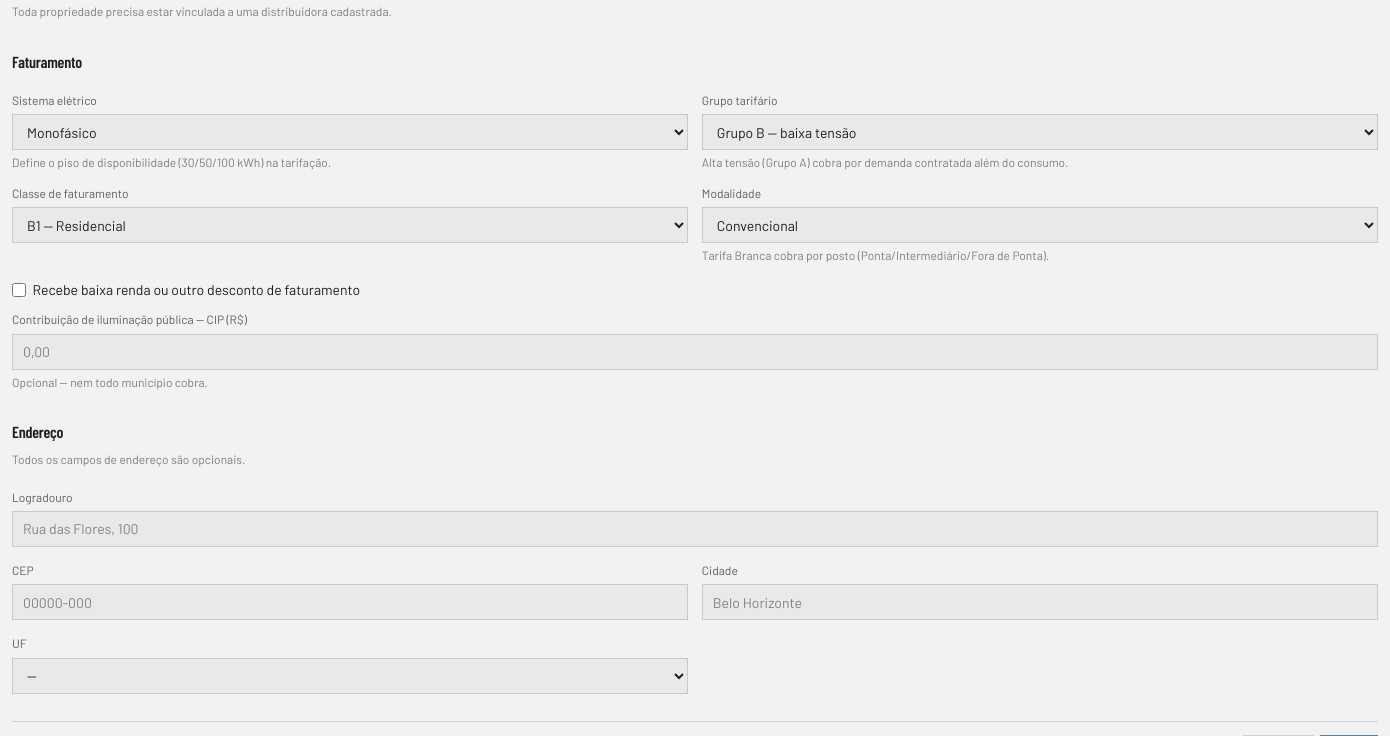
PropertyForm — validação › rejeita CEP em formato inválido
(page scrolled)
Type "123" into the field labelled "CEP" at (350,602), box [12, 584, 688, 620]
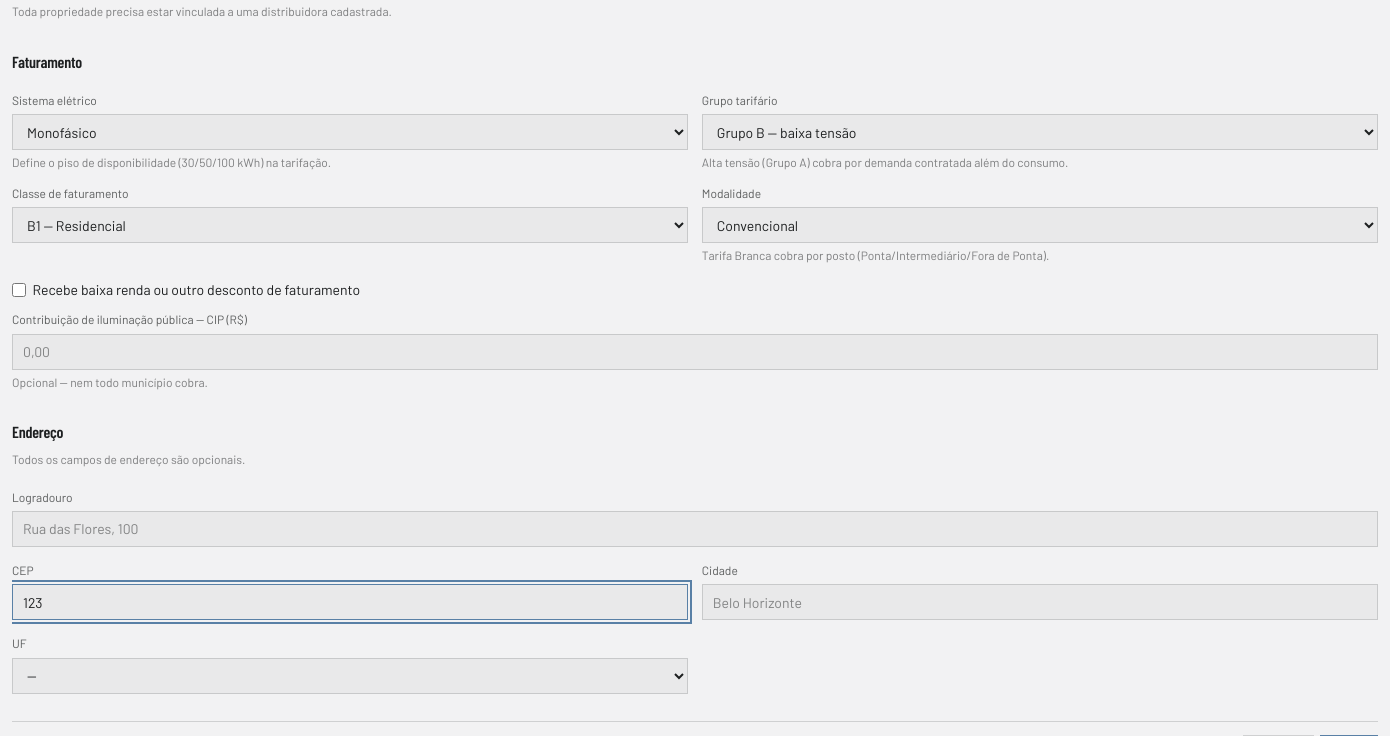
Press Tab
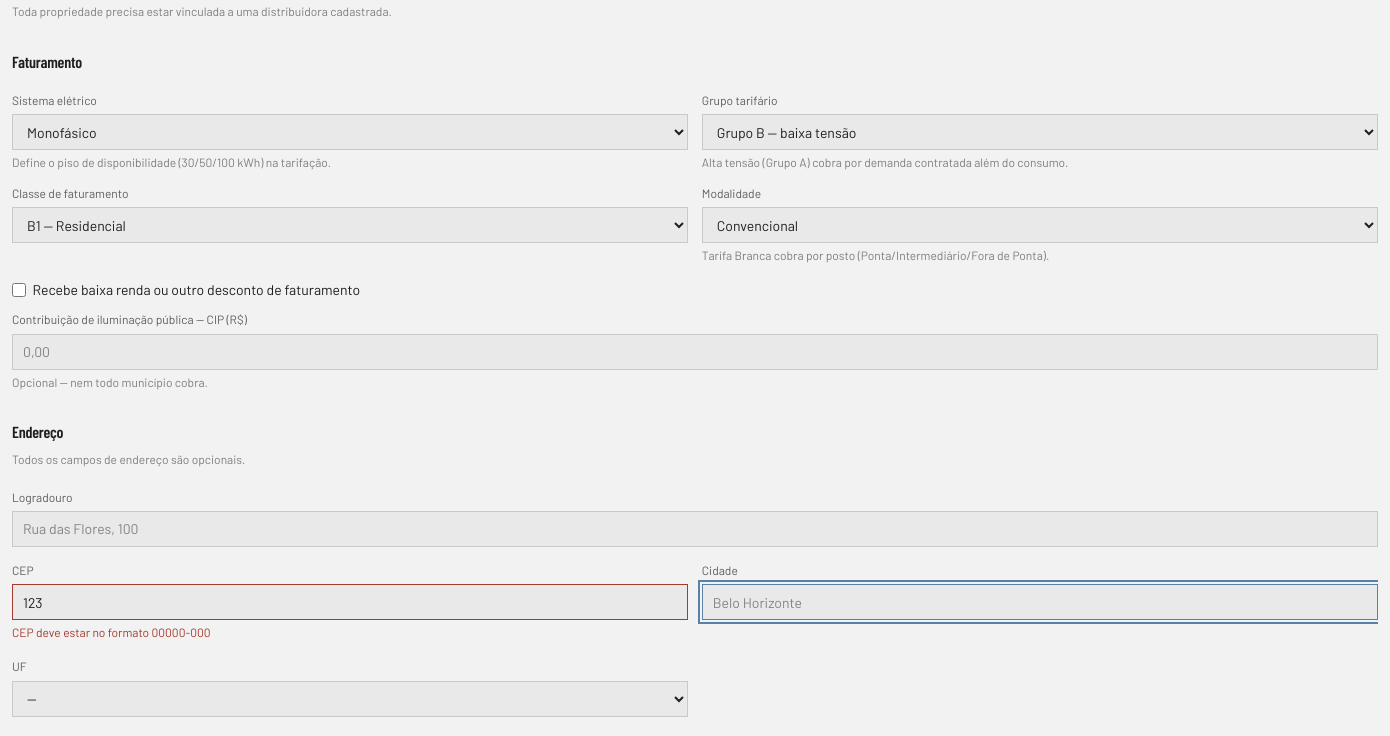
Now the text "CEP deve estar no formato 00000-000" is shown, box [12, 625, 210, 639]
